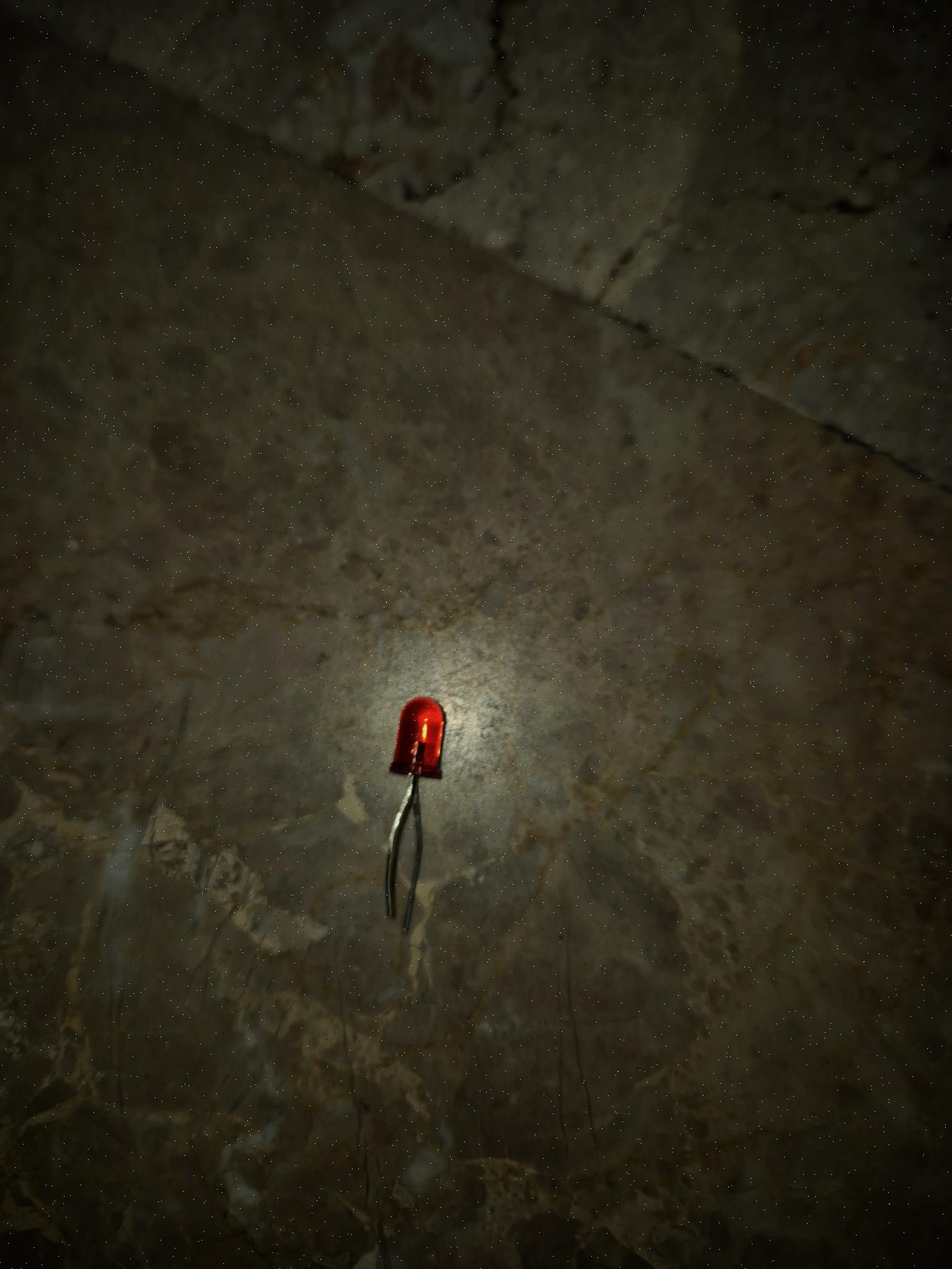led-diode: (385, 696, 447, 933)
